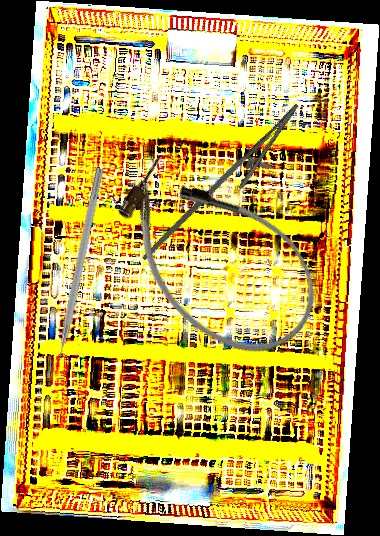Cannula: (89, 133, 343, 383)
Chopper: (41, 165, 105, 373)
Needle Holder: (140, 86, 314, 288)
